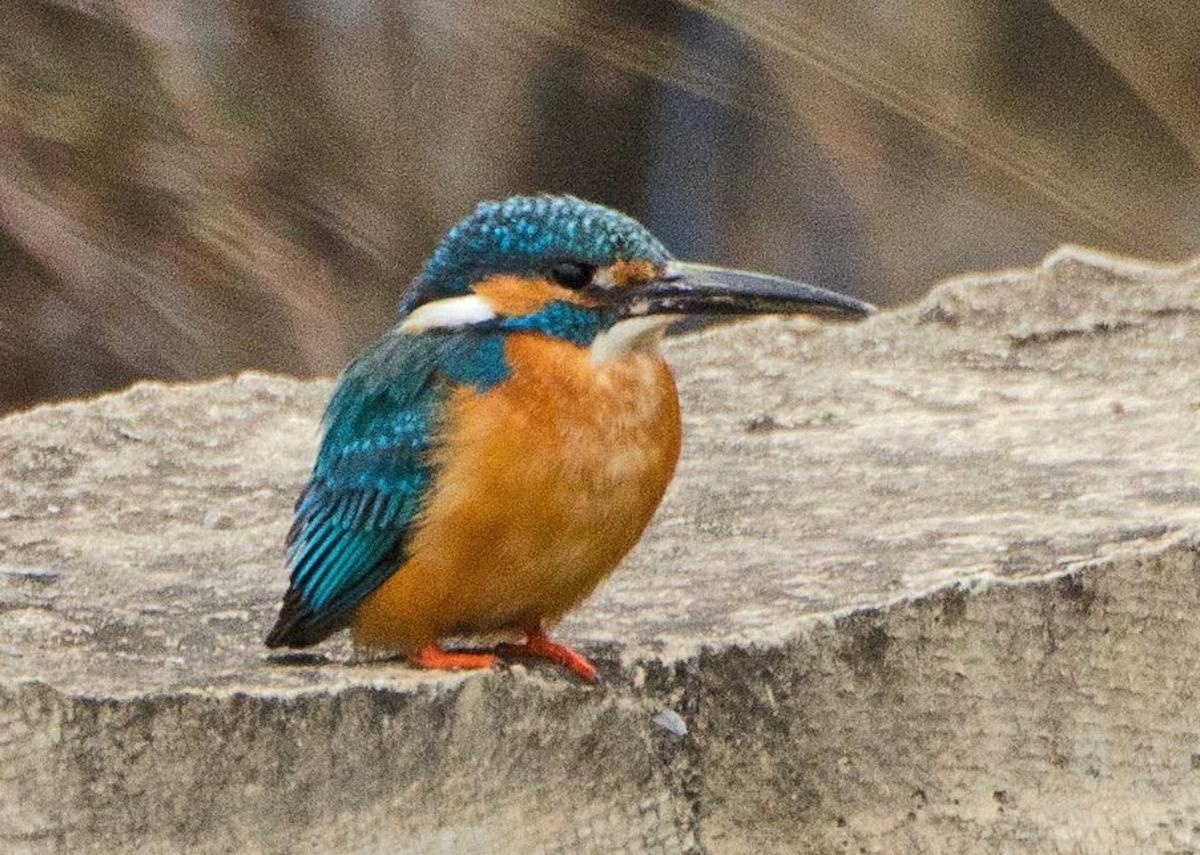kingfisher: (216, 188, 874, 717)
